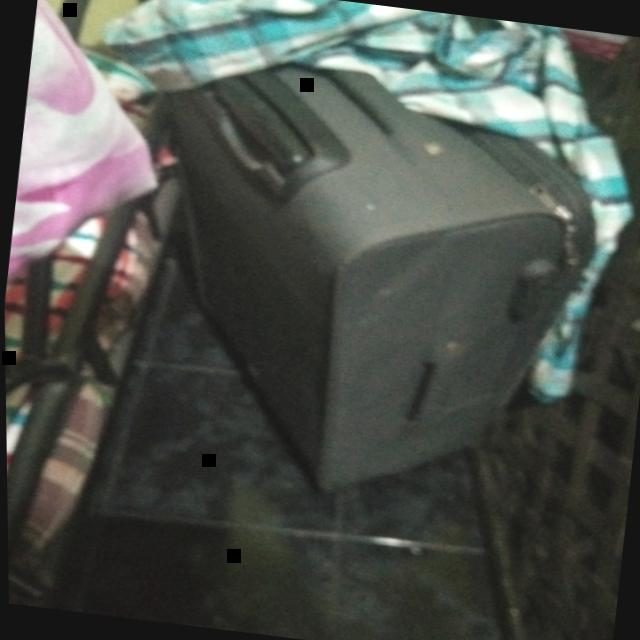luggage: (149, 64, 596, 492)
